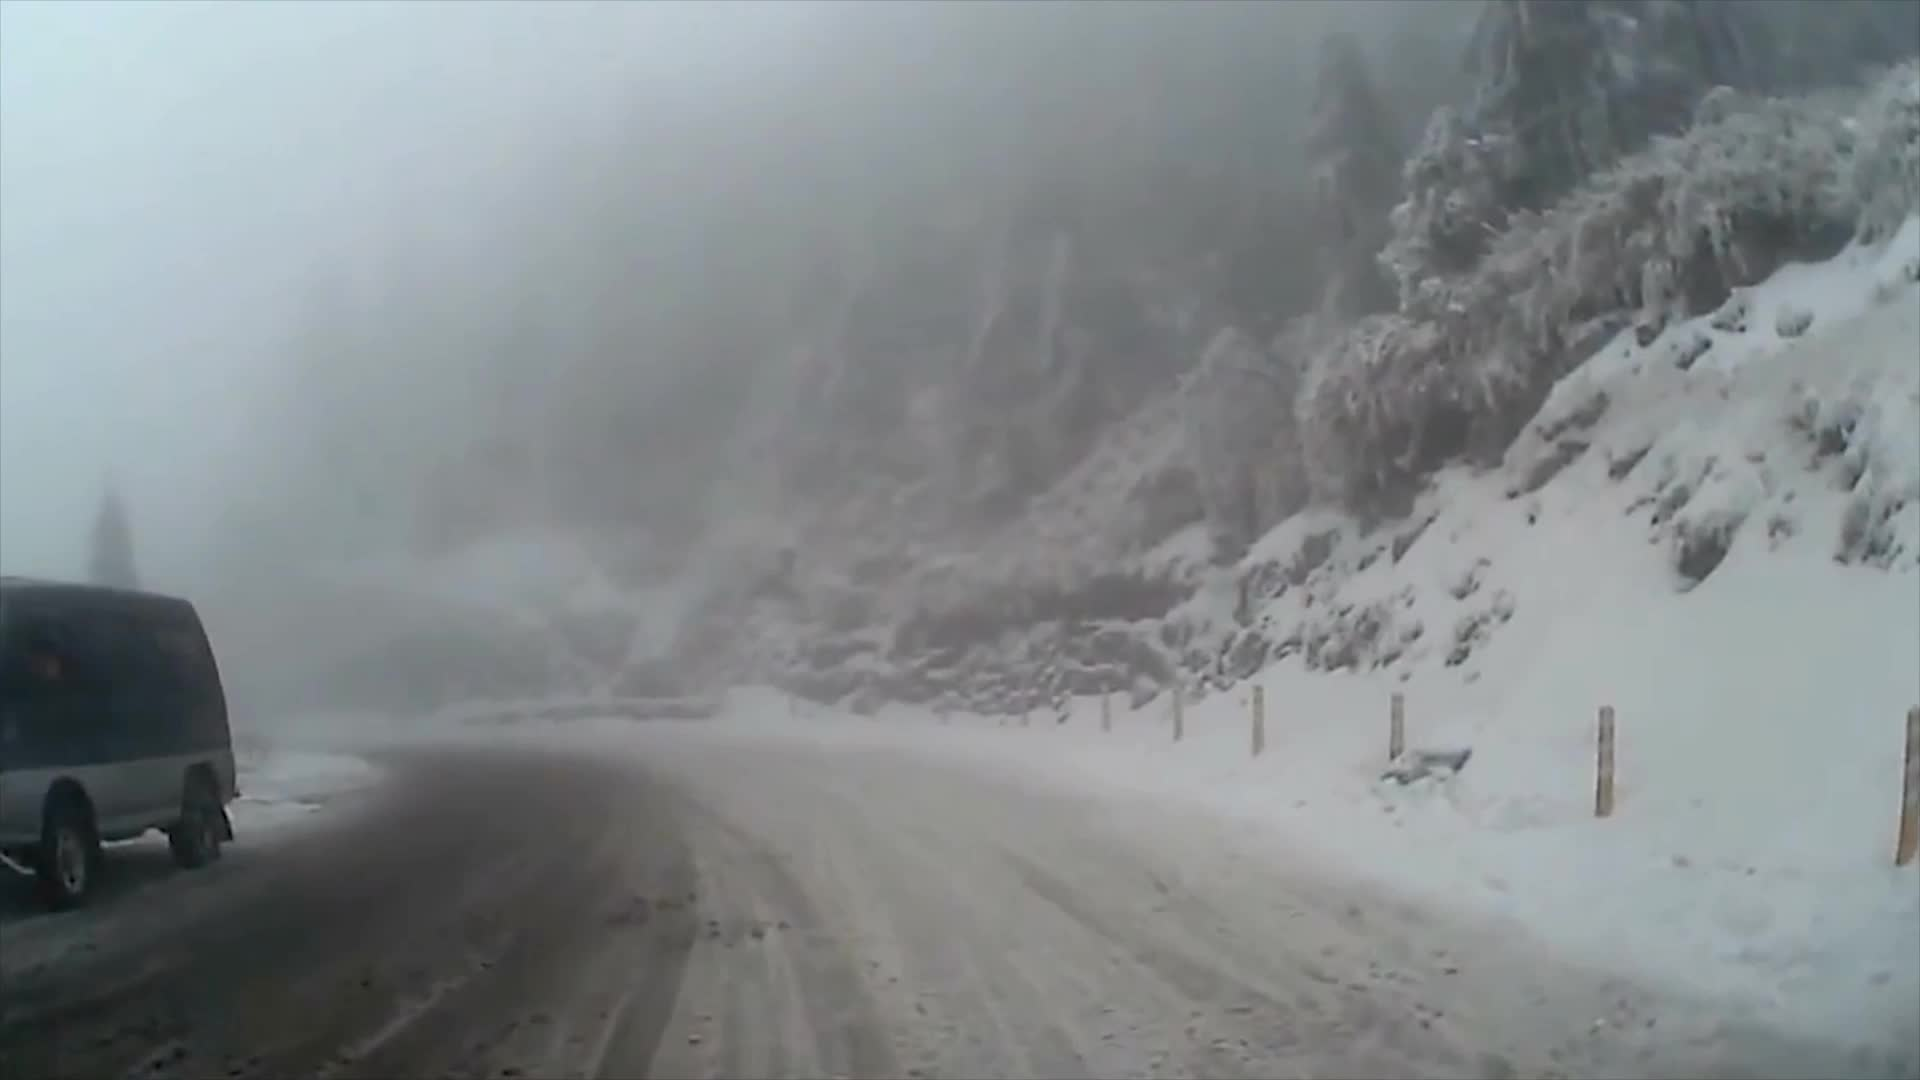vehicle: (0, 575, 243, 909)
